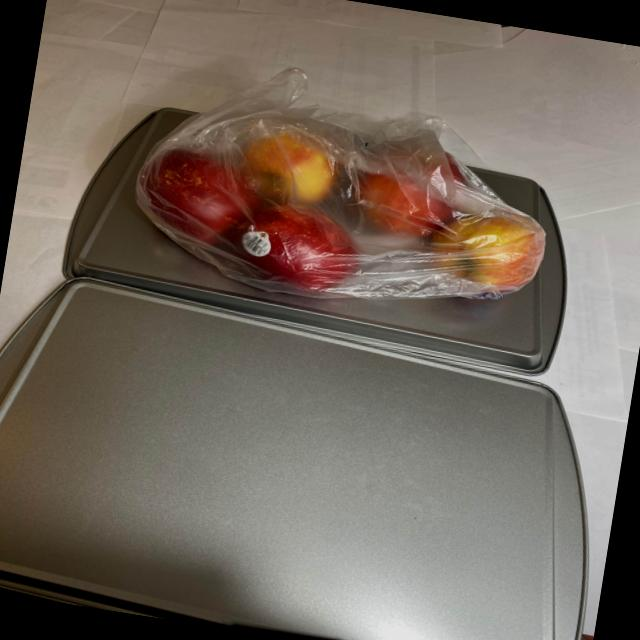apple: (125, 102, 566, 333)
